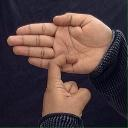hand: (6, 12, 112, 74), (41, 55, 91, 121)
